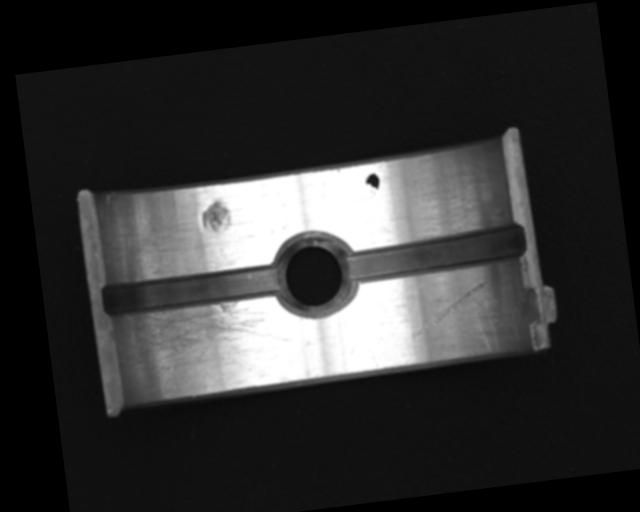blot: (364, 171, 381, 195)
bruise: (200, 199, 235, 234)
gap: (344, 220, 531, 284), (98, 260, 285, 321)
hole: (267, 225, 359, 322)
nick: (404, 278, 494, 340)
scratch: (119, 294, 297, 385)
